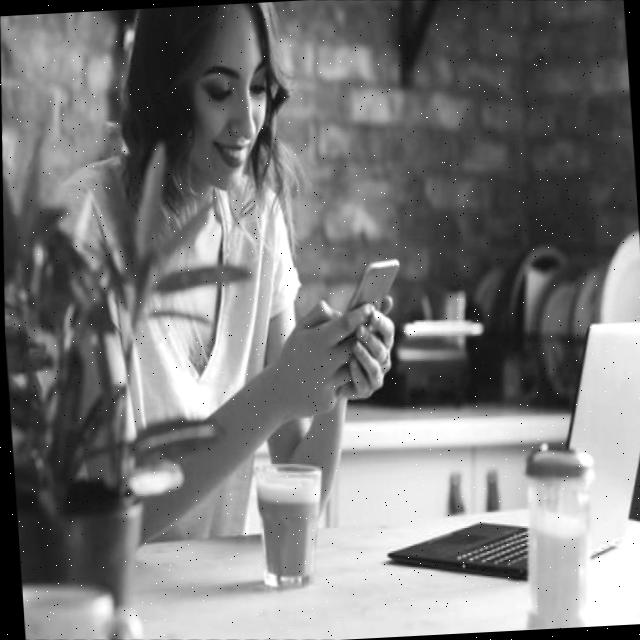phone: (340, 255, 402, 318)
